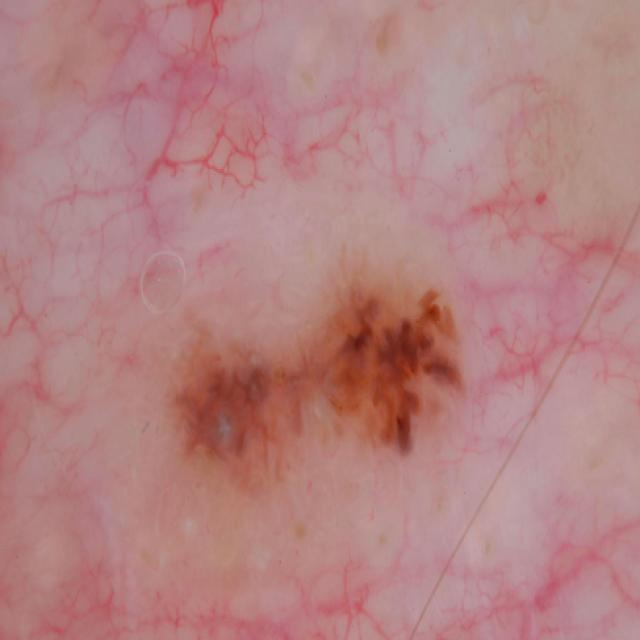Keratosis: (279, 233, 493, 480), (171, 307, 337, 499)
